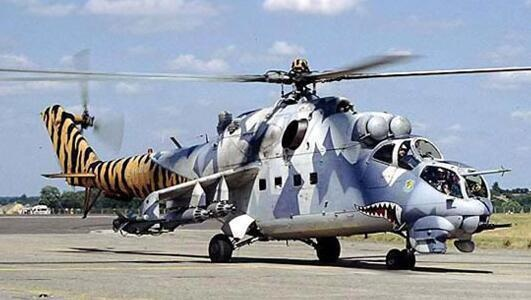airplane: (44, 65, 515, 271)
